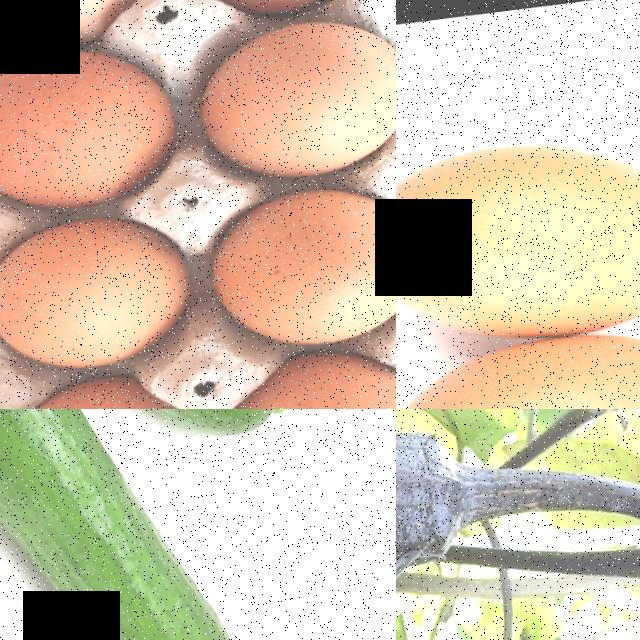cucumber: (0, 434, 273, 640), (88, 409, 313, 463)
egg_: (396, 107, 640, 363), (193, 2, 396, 188), (0, 205, 206, 383), (0, 33, 191, 220), (208, 173, 396, 359), (396, 309, 640, 409), (219, 340, 396, 409), (0, 0, 174, 56), (0, 379, 211, 409)
eggplant: (396, 409, 491, 640)
